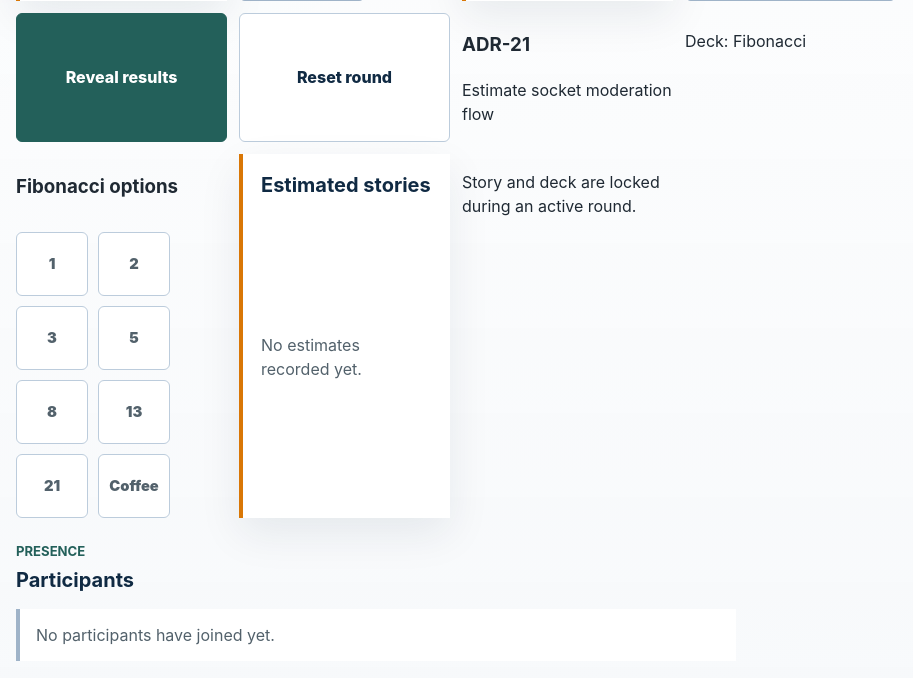
it: ModeratorSessionView › submits changed moderator votes and shows readable failures
This screenshot has width=913, height=678.
(page scrolled)
Click the button named "Change moderator vote to 5" at [134, 338], box [98,306,170,370]
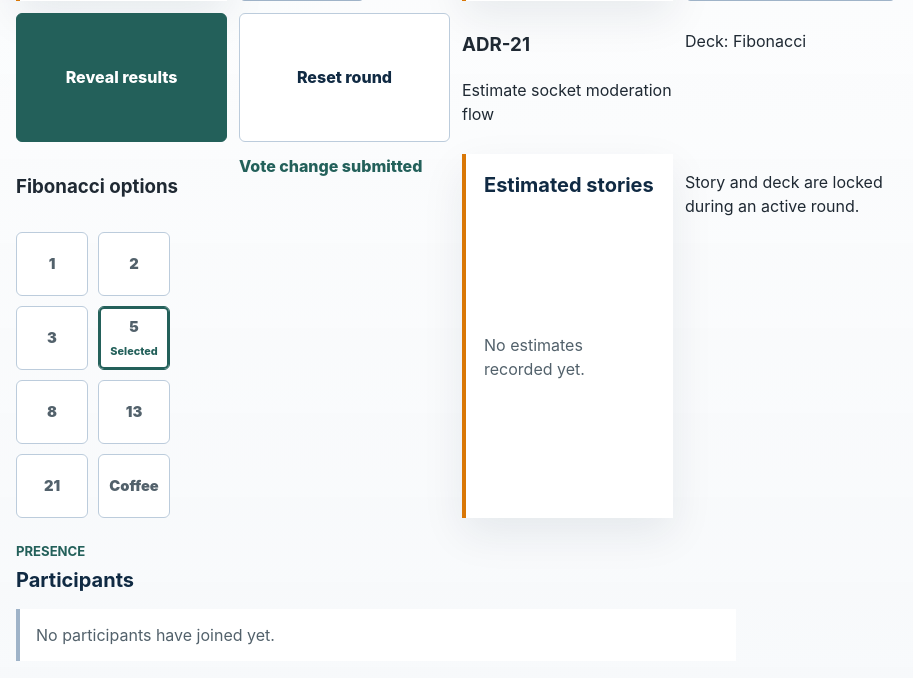
Expected: the text "Vote change submitted" is shown, [239,156,422,176]
Click the button named "Change moderator vote to 8" at [52, 412], box [16,380,88,444]
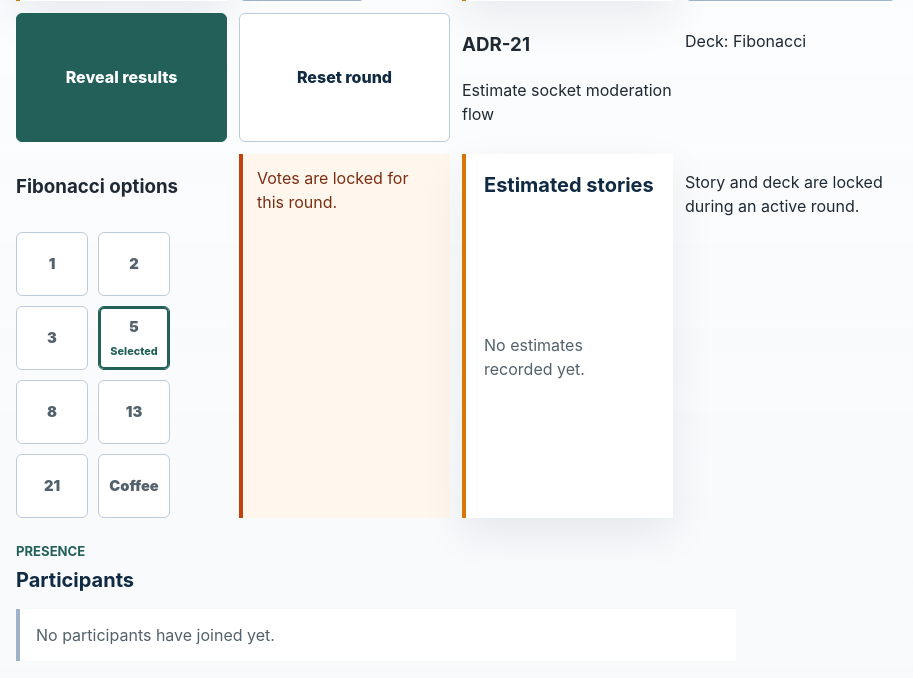
Expected: the message "Votes are locked for this round." is shown, [239,154,450,518]
Expected: the message reads "Votes are locked for this round.", [257,168,408,212]
